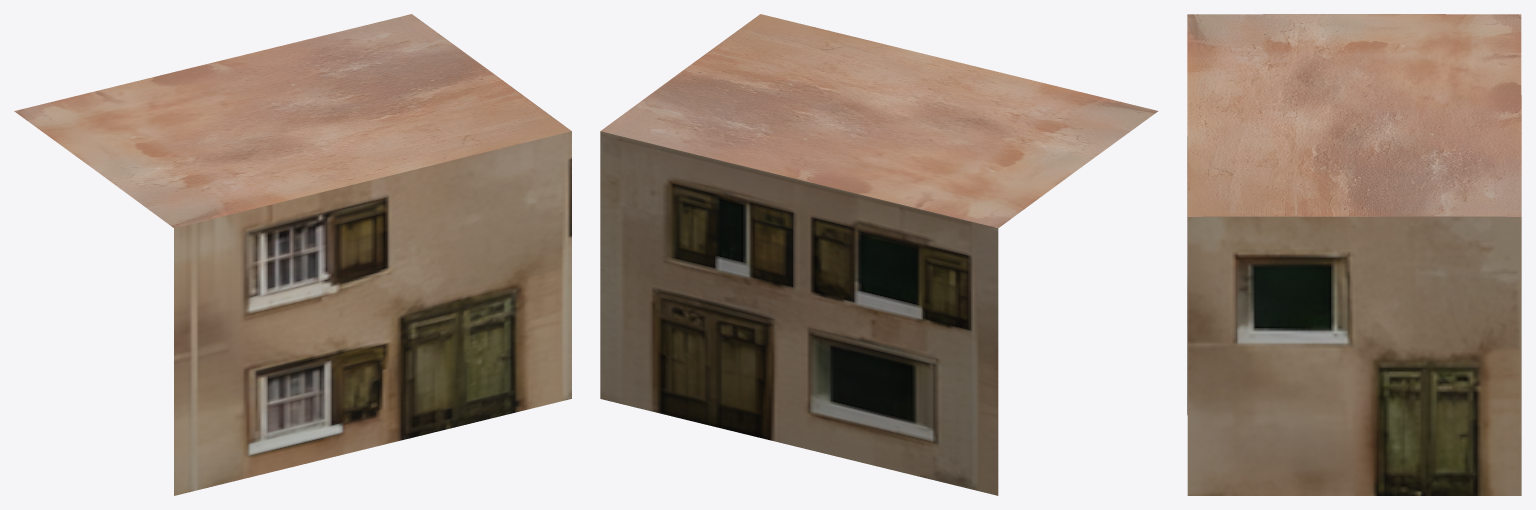
File: deserthouse2.gltf
The picture shows the model from 3 angles, left to right: view 1: azimuth 30°, elevation 25°; view 2: azimuth 150°, elevation 25°; view 3: azimuth 270°, elevation 25°; orthographic projection. The views are drawn at different scales.
Parts seen in each view (by area): view 1: deserthouse2_atomic0; view 2: deserthouse2_atomic0; view 3: deserthouse2_atomic0.
Part boxes in pixels (left/top/right/bottom): deserthouse2_atomic0: left=14, top=14, right=571, bottom=495; deserthouse2_atomic0: left=600, top=14, right=1158, bottom=495; deserthouse2_atomic0: left=1187, top=14, right=1521, bottom=495.
Size of the model in its own units: 18.93 by 12.18 by 13.2.
Materials: 2 (2 with a texture image).
